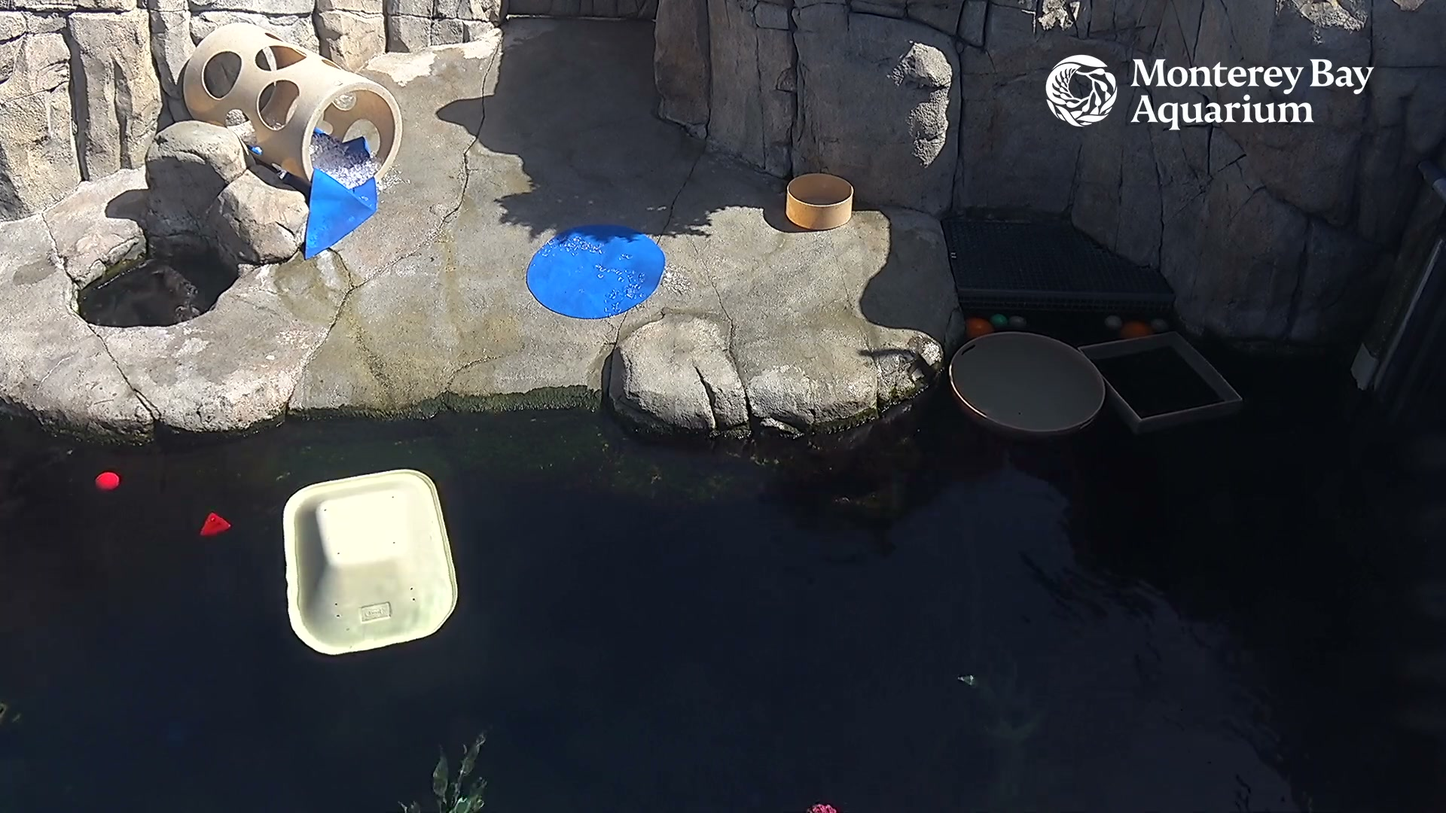Southern Sea Otter: (145, 255, 206, 320)
